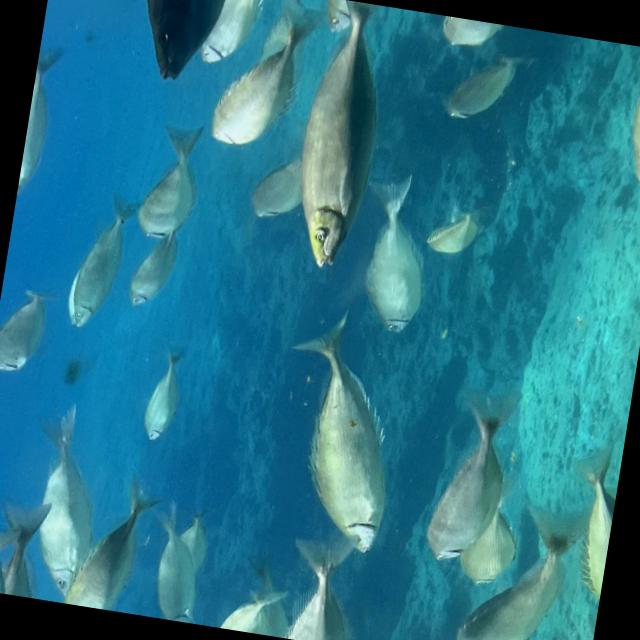Sokar Baligi: (249, 296, 426, 567), (284, 0, 397, 282), (412, 380, 528, 579), (132, 336, 194, 459), (0, 281, 62, 385)
